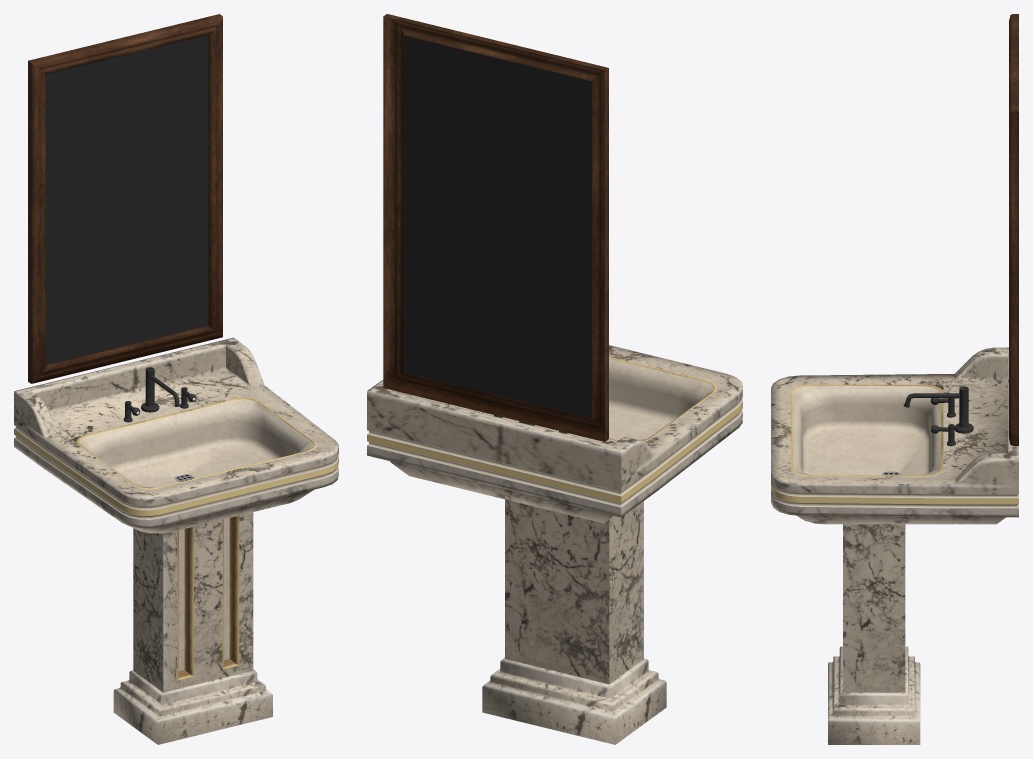
The model's file is bathroom_sink__low-poly__game-ready.glb.
The picture shows the model from 3 angles, left to right: view 1: azimuth 30°, elevation 25°; view 2: azimuth 150°, elevation 25°; view 3: azimuth 270°, elevation 25°; orthographic projection. The views are drawn at different scales.
Parts seen in each view (by area): view 1: sink; view 2: sink; view 3: sink.
Boxes of the visible parts, x1,y1,x2,y2 form: sink: [14, 14, 338, 744]; sink: [367, 14, 742, 744]; sink: [771, 14, 1018, 744].
Size of the model in its own units: 0.5731 by 1.56 by 0.5371.
Materials: 1 (1 with a texture image).
